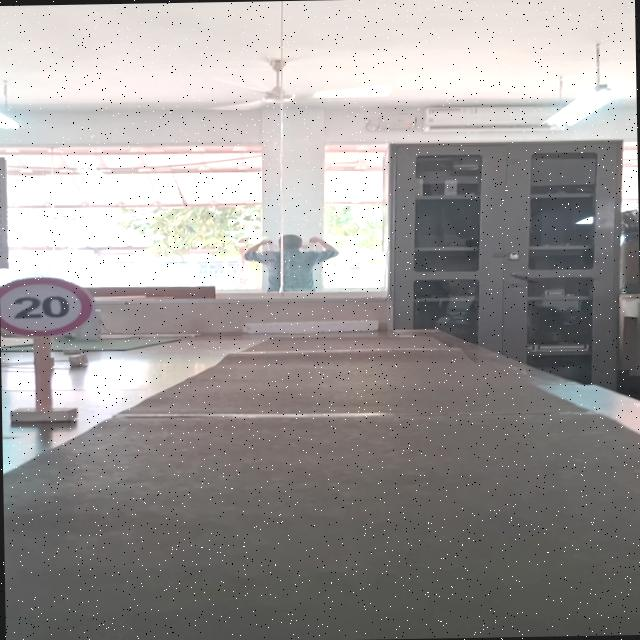Speed20: (0, 273, 95, 341)
